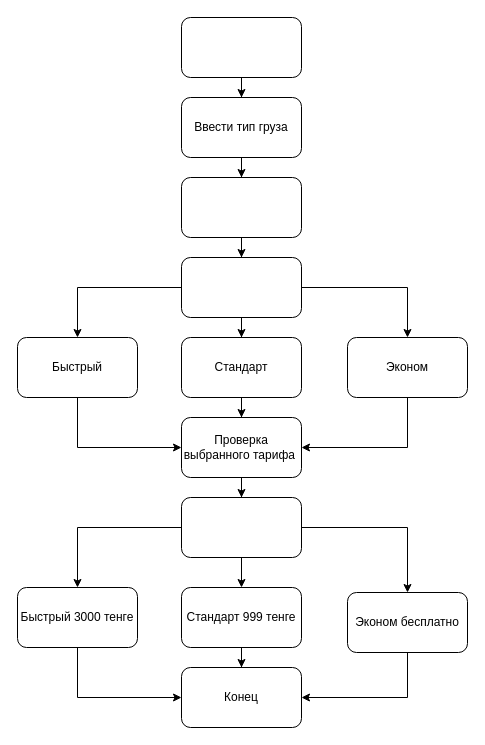
This 485x745 diagram has some shape labels left out. Here are the shapes that lost their labels. From the top down, the centre of each, then its label:
point (241, 47): Начало
point (241, 207): Ввести место доставки
point (241, 287): Выбор доставки (тариф)
point (241, 527): Вывод стоимости
